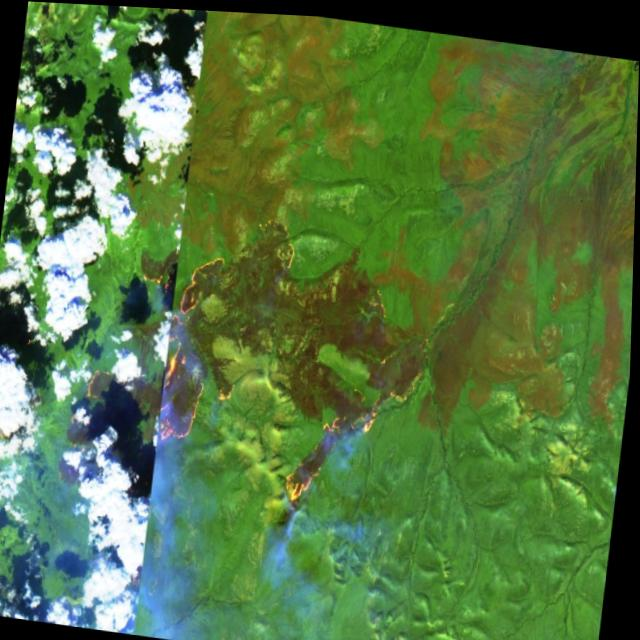fire: (263, 259, 438, 524), (155, 234, 263, 465)
